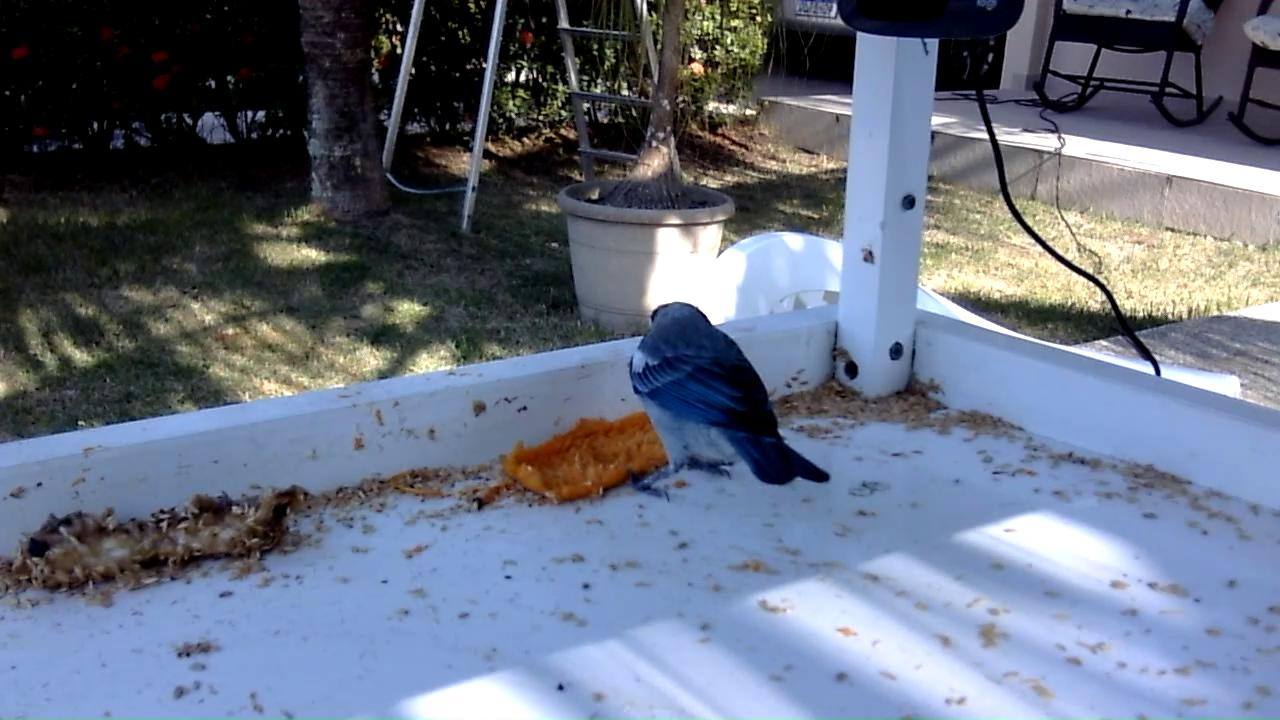sanhaco_da_amazonia: (625, 301, 836, 507)
